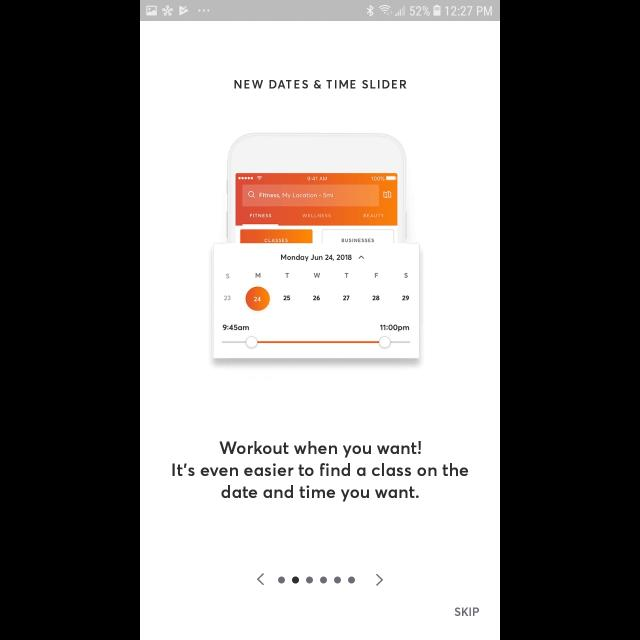icon: (376, 574, 384, 586), (256, 573, 264, 585)
image: (212, 133, 420, 359)
pageindicator: (278, 576, 356, 584)
text: (172, 441, 468, 502), (234, 80, 406, 90), (454, 608, 480, 616)
uppertaskbar: (140, 1, 500, 22)
